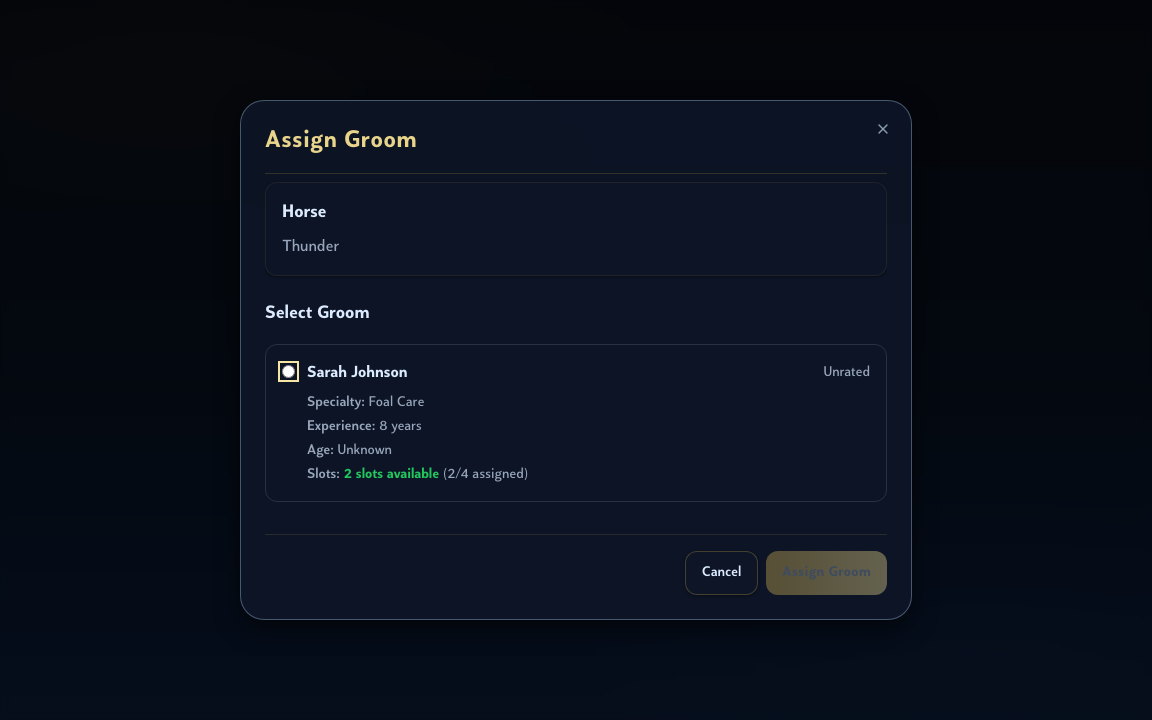
Test: AssignGroomModal — failure copy (Equoria-eivq9) › a server fault shows the shared class copy, not the server message
Click the radio button labelled "Sarah Johnson" at (288, 372), box x1=282 y1=365 x2=295 y2=378
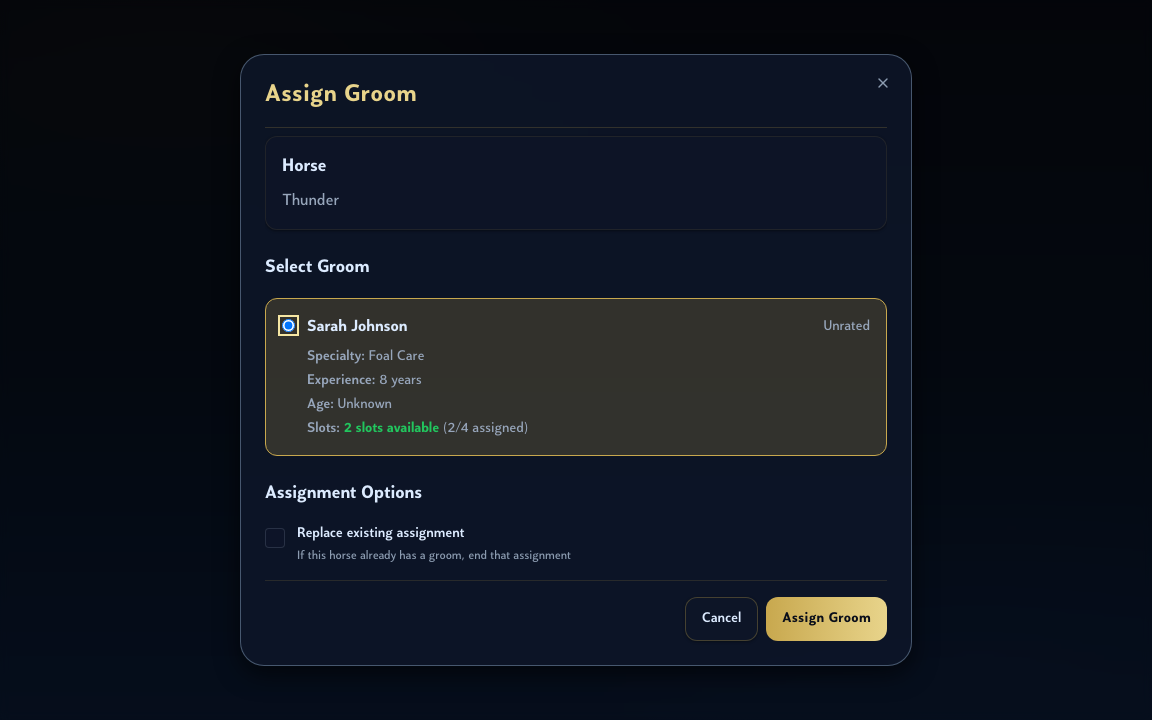
Click the button "Assign Groom" at (827, 619), box x1=766 y1=597 x2=887 y2=641
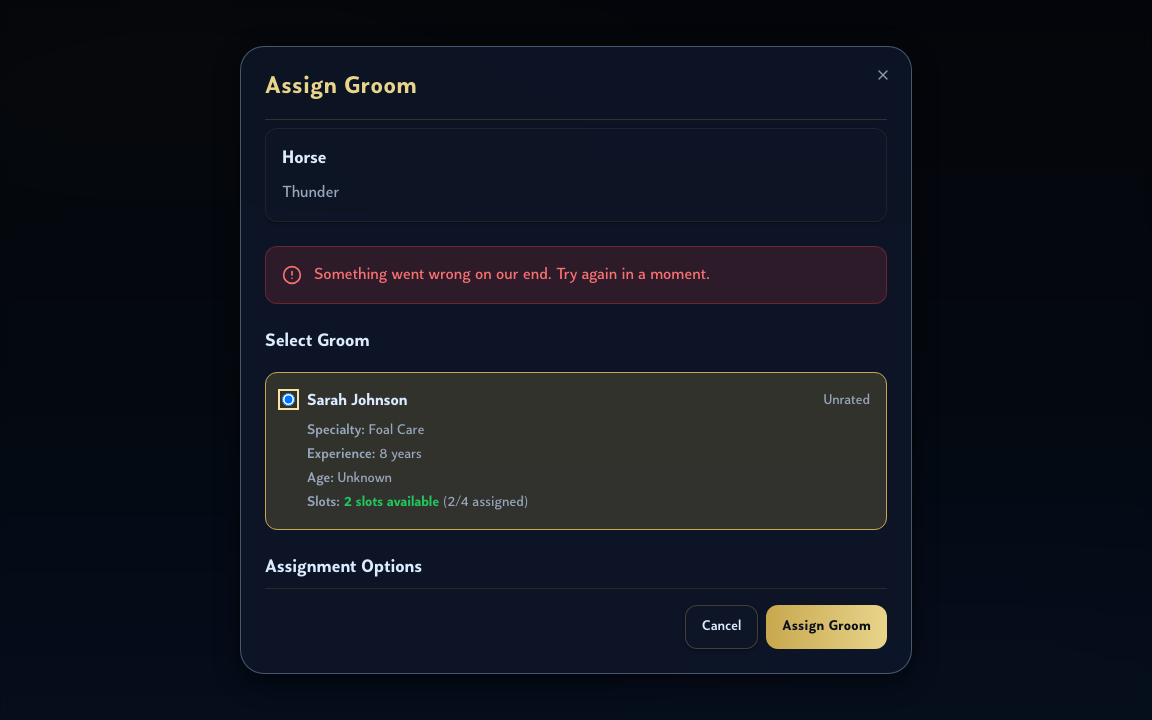
Expected: the message shows "Something went wrong", x1=314 y1=267 x2=710 y2=283
